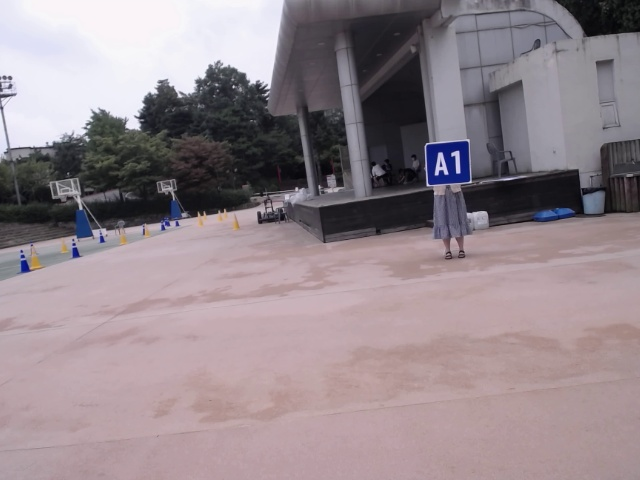delivery_a1: (426, 139, 471, 186)
